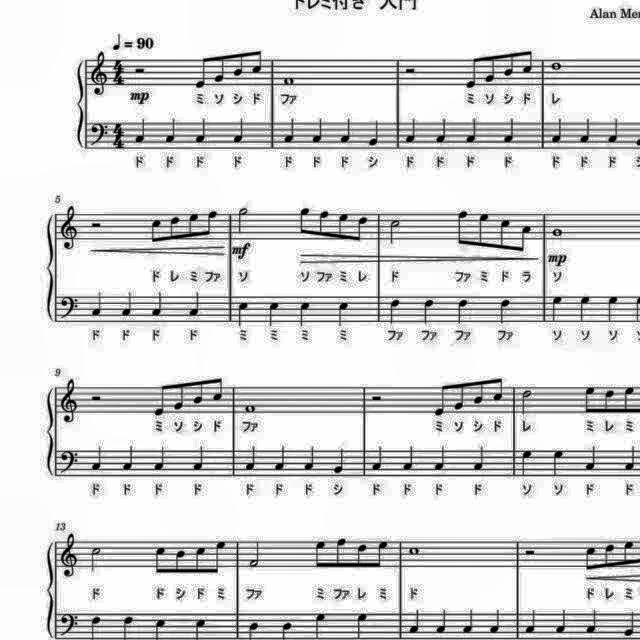Bass-clef: (88, 119, 112, 149), (58, 446, 82, 476), (58, 293, 82, 323), (58, 611, 81, 640)
Eighth-note: (450, 207, 470, 250), (150, 378, 168, 419), (465, 52, 483, 92), (193, 52, 210, 92), (153, 542, 171, 578), (476, 212, 492, 252), (212, 537, 228, 577), (296, 203, 314, 237), (432, 378, 448, 416), (147, 212, 165, 245), (496, 215, 512, 252), (374, 538, 391, 572), (334, 536, 350, 572), (517, 222, 535, 254), (621, 382, 639, 414), (582, 380, 598, 416), (312, 536, 328, 572), (174, 380, 190, 414), (203, 208, 220, 240), (336, 209, 352, 243), (452, 378, 468, 412), (622, 538, 638, 570), (194, 544, 210, 576), (248, 46, 264, 78), (483, 52, 499, 84), (318, 208, 334, 240), (172, 546, 188, 578), (500, 48, 516, 80), (212, 52, 228, 84), (490, 372, 506, 404), (184, 210, 200, 242), (584, 542, 600, 574), (168, 212, 184, 244), (354, 212, 370, 244), (210, 372, 226, 404), (190, 376, 206, 406), (232, 49, 248, 79), (470, 377, 486, 407), (600, 388, 616, 417), (602, 540, 616, 572), (354, 540, 368, 572), (521, 45, 535, 77)
Full-note: (550, 58, 566, 74), (280, 72, 296, 88), (550, 226, 566, 240), (408, 543, 424, 557), (242, 401, 258, 415)
Half-note: (519, 386, 537, 419), (246, 538, 264, 570), (89, 544, 107, 574), (385, 216, 403, 246), (233, 204, 249, 236)
Half-rest: (128, 63, 152, 77), (89, 215, 108, 232), (89, 390, 107, 404), (402, 63, 418, 77), (370, 390, 386, 404), (522, 547, 538, 559)
Quarter-note: (620, 609, 640, 639), (550, 446, 568, 478), (132, 116, 150, 148), (495, 294, 513, 326), (575, 292, 593, 324), (519, 447, 537, 478), (231, 115, 249, 146), (281, 115, 299, 146), (419, 297, 437, 327), (454, 297, 472, 327), (153, 443, 171, 473), (185, 290, 203, 320), (266, 299, 284, 329), (148, 290, 166, 320), (549, 294, 567, 324), (353, 611, 371, 640), (502, 116, 518, 148), (604, 294, 620, 326), (604, 116, 620, 148), (310, 116, 326, 148), (332, 444, 348, 476), (340, 116, 356, 148), (365, 118, 381, 150), (460, 606, 476, 638), (623, 443, 640, 473), (190, 443, 207, 473), (399, 443, 416, 473), (90, 442, 106, 473), (195, 117, 211, 147), (466, 117, 482, 147), (336, 299, 352, 329), (584, 443, 600, 473), (298, 299, 314, 329), (472, 443, 488, 473), (432, 442, 448, 472), (243, 443, 259, 473), (406, 117, 422, 147), (550, 117, 566, 147), (368, 442, 384, 472), (120, 291, 136, 321), (312, 610, 328, 640), (273, 442, 289, 472), (164, 116, 180, 146), (300, 442, 316, 472), (386, 297, 402, 327), (433, 117, 449, 147), (90, 290, 106, 320), (577, 117, 593, 147), (120, 443, 136, 473), (554, 607, 570, 637), (236, 300, 252, 328), (408, 608, 424, 636), (525, 610, 541, 638), (487, 608, 503, 636), (584, 608, 600, 636), (434, 610, 450, 638), (639, 443, 640, 473)
Treble-clef: (58, 378, 82, 428), (58, 531, 82, 581), (58, 201, 82, 251), (88, 48, 109, 96)
